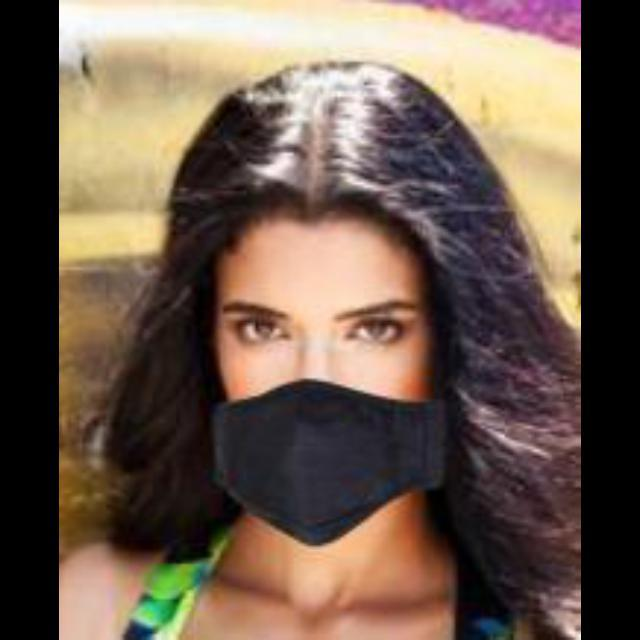suspicion: (190, 196, 468, 502)
